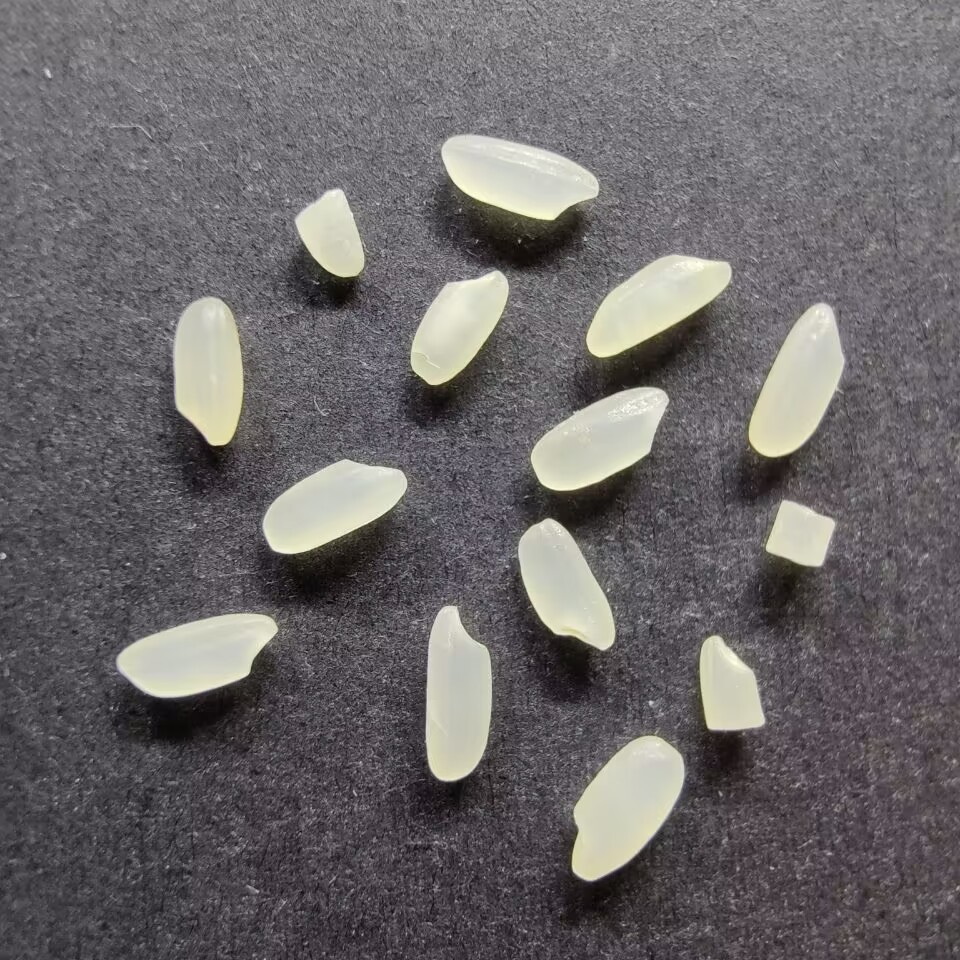broken: (694, 634, 768, 733), (291, 187, 369, 278), (764, 498, 838, 570)
rice: (567, 733, 688, 883), (745, 302, 848, 457), (586, 251, 736, 357), (530, 384, 670, 494), (438, 131, 602, 223), (260, 457, 410, 556), (113, 611, 280, 698), (515, 516, 618, 653), (421, 604, 492, 784), (408, 268, 510, 387), (169, 296, 244, 449)
